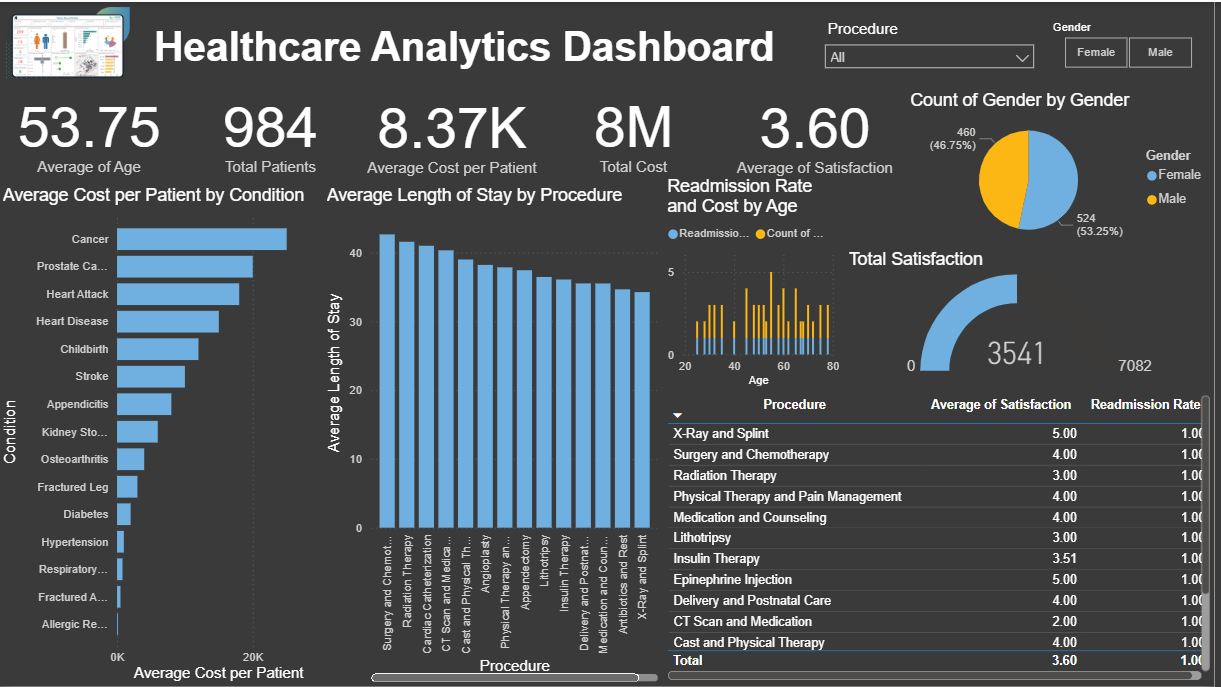

Layout of this report page (visuals, bound fields, positions):
{"tool":"powerbi","page":{"name":"Healthcare Analytics Dashboard","canvas":[1280,720],"ordinal":0},"visuals":[{"type":"textbox","box":[146.9,16.7,675.3,75.7],"z":0},{"type":"image","box":[0,0,146.9,92.4],"z":1000},{"type":"card","fields":{"Values":["Avg(hospital data analysis.Age)"]},"box":[0,80.5,191.1,110.5],"z":2000},{"type":"card","fields":{"Values":["hospital data analysis.Total Patients"]},"box":[191.1,80.5,191.1,110.5],"z":3000},{"type":"card","fields":{"Values":["hospital data analysis.Average Cost per Patient"]},"box":[382.1,80.5,191.1,112.1],"z":4000},{"type":"card","fields":{"Values":["Sum(hospital data analysis.Cost)"]},"box":[573.2,80.5,191.1,110.5],"z":5000},{"type":"card","fields":{"Values":["Avg(hospital data analysis.Satisfaction)"]},"box":[764.2,80.5,191.1,112.1],"z":6000},{"type":"clusteredBarChart","fields":{"Category":["hospital data analysis.Condition"],"Y":["hospital data analysis.Average Cost per Patient"]},"box":[0,192.6,355.3,527.4],"z":7000},{"type":"columnChart","fields":{"Category":["hospital data analysis.Procedure"],"Y":["hospital data analysis.Average Length of Stay"]},"box":[341.1,192.6,358.4,527.4],"z":8000},{"type":"pieChart","fields":{"Y":["CountNonNull(hospital data analysis.Gender)"],"Category":["hospital data analysis.Gender"]},"box":[955.3,93.2,325.3,167.4],"z":9000},{"type":"columnChart","title":"Readmission Rate and Cost by Age","fields":{"Category":["hospital data analysis.Age"],"Y":["hospital data analysis.Readmission Rate","Count(hospital data analysis.Cost)"]},"box":[699.5,183.2,191.1,225.8],"z":10000},{"type":"gauge","title":"Total Satisfaction","fields":{"Y":["Sum(hospital data analysis.Satisfaction)"]},"box":[890.5,260.5,390,137.4],"z":11000},{"type":"slicer","fields":{"Values":["hospital data analysis.Gender"]},"box":[1097.4,14.2,183.2,61.6],"z":12000},{"type":"slicer","fields":{"Values":["hospital data analysis.Procedure"]},"box":[860.5,14.2,240,66.3],"z":13000},{"type":"tableEx","fields":{"Values":["hospital data analysis.Procedure","Avg(hospital data analysis.Satisfaction)","hospital data analysis.Readmission Rate"]},"box":[699.5,409,581.1,309.5],"z":14000}]}

Visuals, with their boxes in screenshot pixels (x1, y1, x2, y2), scaled from the page's 1280x720 canvas onto the 1221x687 screenshot:
textbox: box(140, 16, 784, 88)
image: box(0, 0, 140, 88)
card - Avg(hospital data analysis.Age): box(0, 77, 182, 182)
card - hospital data analysis.Total Patients: box(182, 77, 365, 182)
card - hospital data analysis.Average Cost per Patient: box(364, 77, 547, 184)
card - Sum(hospital data analysis.Cost): box(547, 77, 729, 182)
card - Avg(hospital data analysis.Satisfaction): box(729, 77, 911, 184)
clusteredBarChart - hospital data analysis.Condition x hospital data analysis.Average Cost per Patient: box(0, 184, 339, 686)
columnChart - hospital data analysis.Procedure x hospital data analysis.Average Length of Stay: box(325, 184, 667, 686)
pieChart - CountNonNull(hospital data analysis.Gender) x hospital data analysis.Gender: box(911, 89, 1220, 249)
"Readmission Rate and Cost by Age" columnChart: box(667, 175, 850, 390)
"Total Satisfaction" gauge: box(849, 249, 1220, 380)
slicer - hospital data analysis.Gender: box(1047, 14, 1220, 72)
slicer - hospital data analysis.Procedure: box(821, 14, 1050, 77)
tableEx - hospital data analysis.Procedure x Avg(hospital data analysis.Satisfaction): box(667, 390, 1220, 686)
